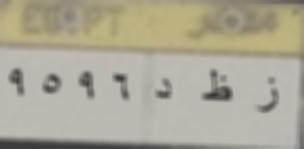5: (39, 70, 65, 102)
6: (108, 70, 140, 104)
9: (4, 64, 28, 104), (73, 72, 102, 104)
Thaa: (198, 67, 234, 107)
daal: (152, 76, 178, 108)
zay: (254, 69, 284, 121)
